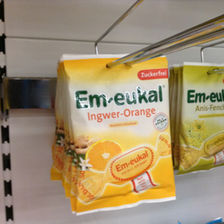candy: (62, 53, 175, 216), (181, 62, 224, 175)
